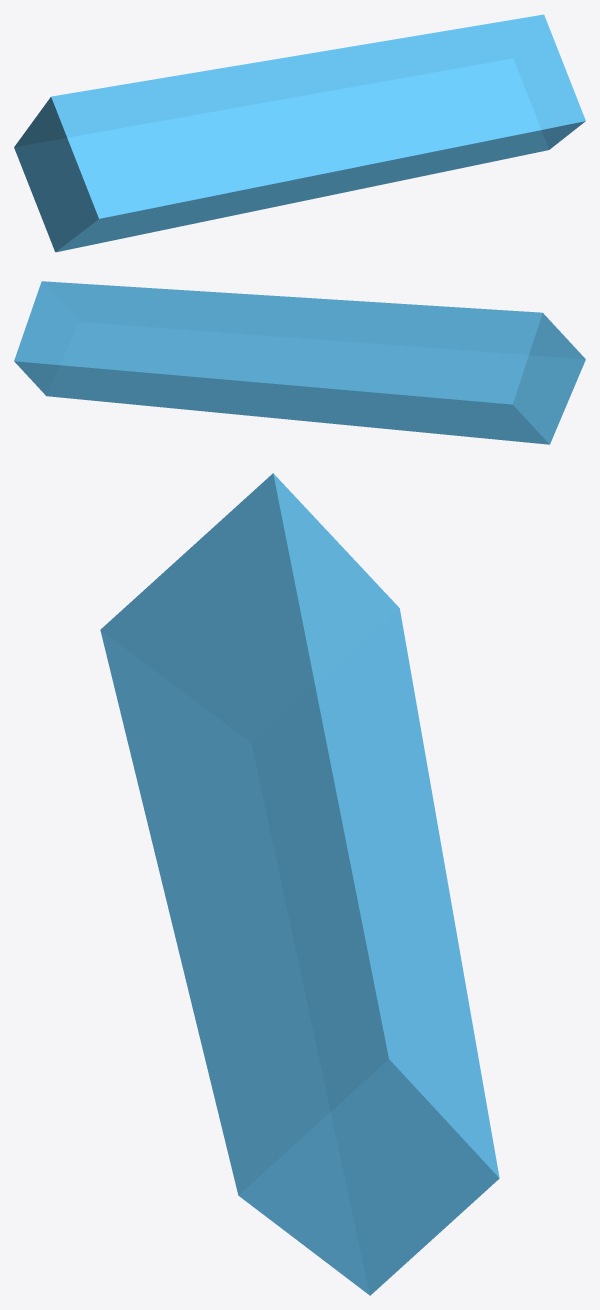
Rendered from Event_420094457_HErechit_17.fbx.
3 views of the same model, one above another, from view 1: azimuth 30°, elevation 25°; view 2: azimuth 150°, elevation 25°; view 3: azimuth 270°, elevation 25° (orthographic). The views are drawn at different scales.
Visible parts, largest first — view 1: Model; view 2: Model; view 3: Model.
Part boxes in pixels (<box>): Model: <box>14,14,585,252</box>; Model: <box>14,281,585,444</box>; Model: <box>100,473,499,1295</box>.
Size of the model in its own units: 1.5 by 0.5493 by 0.5493.
